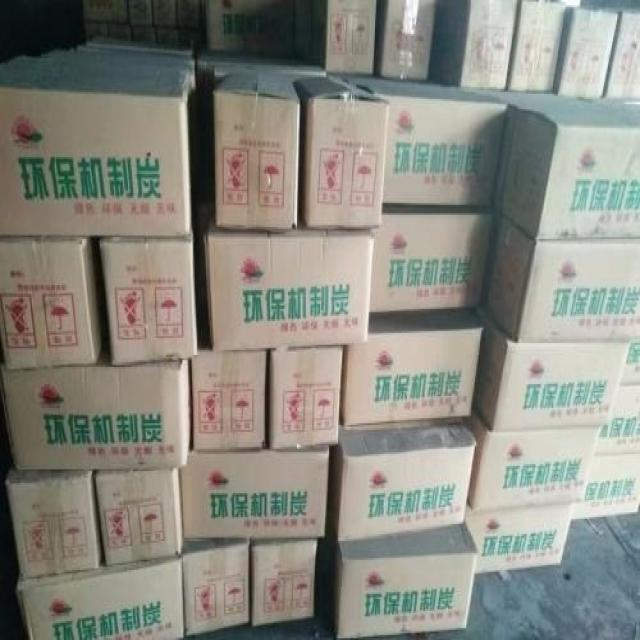box: (0, 55, 192, 237), (1, 355, 191, 469), (206, 222, 375, 348), (352, 82, 507, 208), (485, 218, 640, 341), (500, 104, 640, 239), (474, 314, 631, 430), (330, 423, 479, 539), (340, 309, 484, 425), (333, 524, 479, 638), (294, 77, 389, 229), (180, 444, 329, 539), (17, 555, 183, 640), (212, 73, 300, 232), (468, 408, 603, 510), (0, 237, 101, 370), (99, 237, 198, 369), (371, 213, 492, 312), (6, 468, 104, 579), (95, 469, 183, 567), (465, 502, 575, 573), (268, 346, 342, 449), (191, 350, 266, 451), (183, 541, 251, 638), (207, 0, 311, 60), (554, 9, 620, 99), (252, 539, 317, 626), (458, 0, 518, 90), (508, 0, 566, 90), (572, 452, 640, 521), (380, 0, 436, 80), (325, 0, 376, 75), (605, 12, 640, 101), (598, 386, 640, 454)
